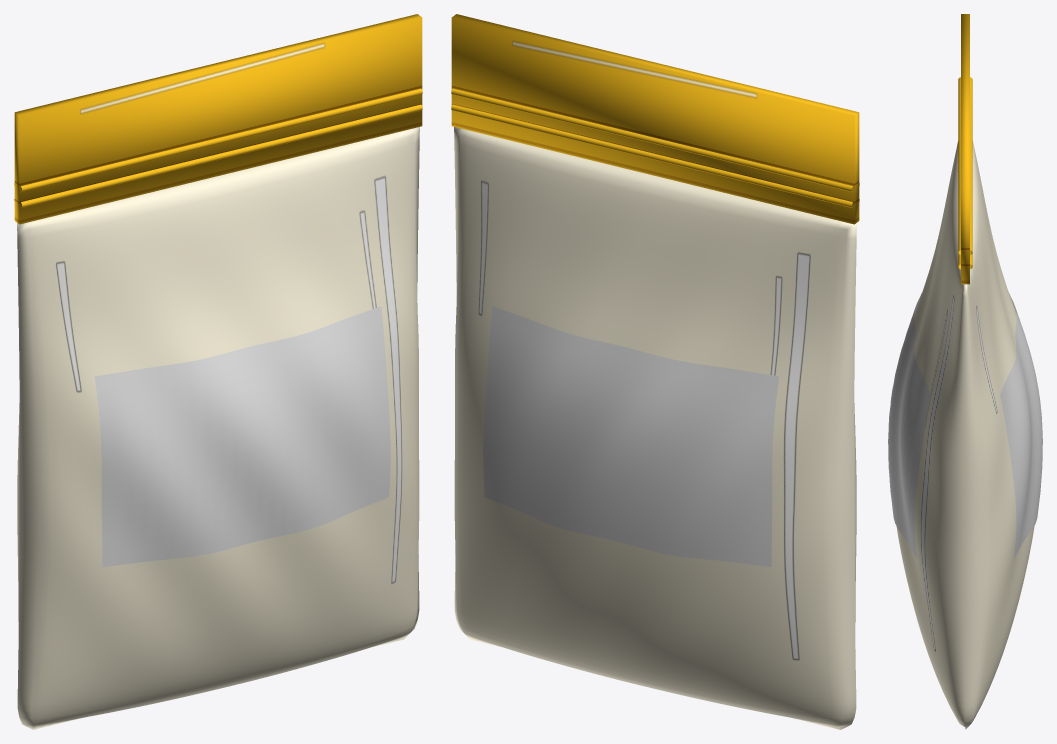
The model's file is catnip_baggie.fbx.
The picture shows the model from 3 angles, left to right: view 1: azimuth 30°, elevation 25°; view 2: azimuth 150°, elevation 25°; view 3: azimuth 270°, elevation 25°; orthographic projection. The views are drawn at different scales.
Parts seen in each view (by area): view 1: Baggie, Label; view 2: Baggie, Label; view 3: Baggie, Label.
Part boxes in pixels (x1,y1,x2,y2): Baggie: [14, 14, 422, 729]; Label: [94, 306, 390, 567]; Baggie: [451, 14, 859, 729]; Label: [483, 306, 779, 567]; Baggie: [896, 14, 1034, 729]; Label: [888, 293, 1042, 558].
Bounding box in the file's own units: 0.66 × 0.97 × 0.248.
Materials: 3 (2 with a texture image).
